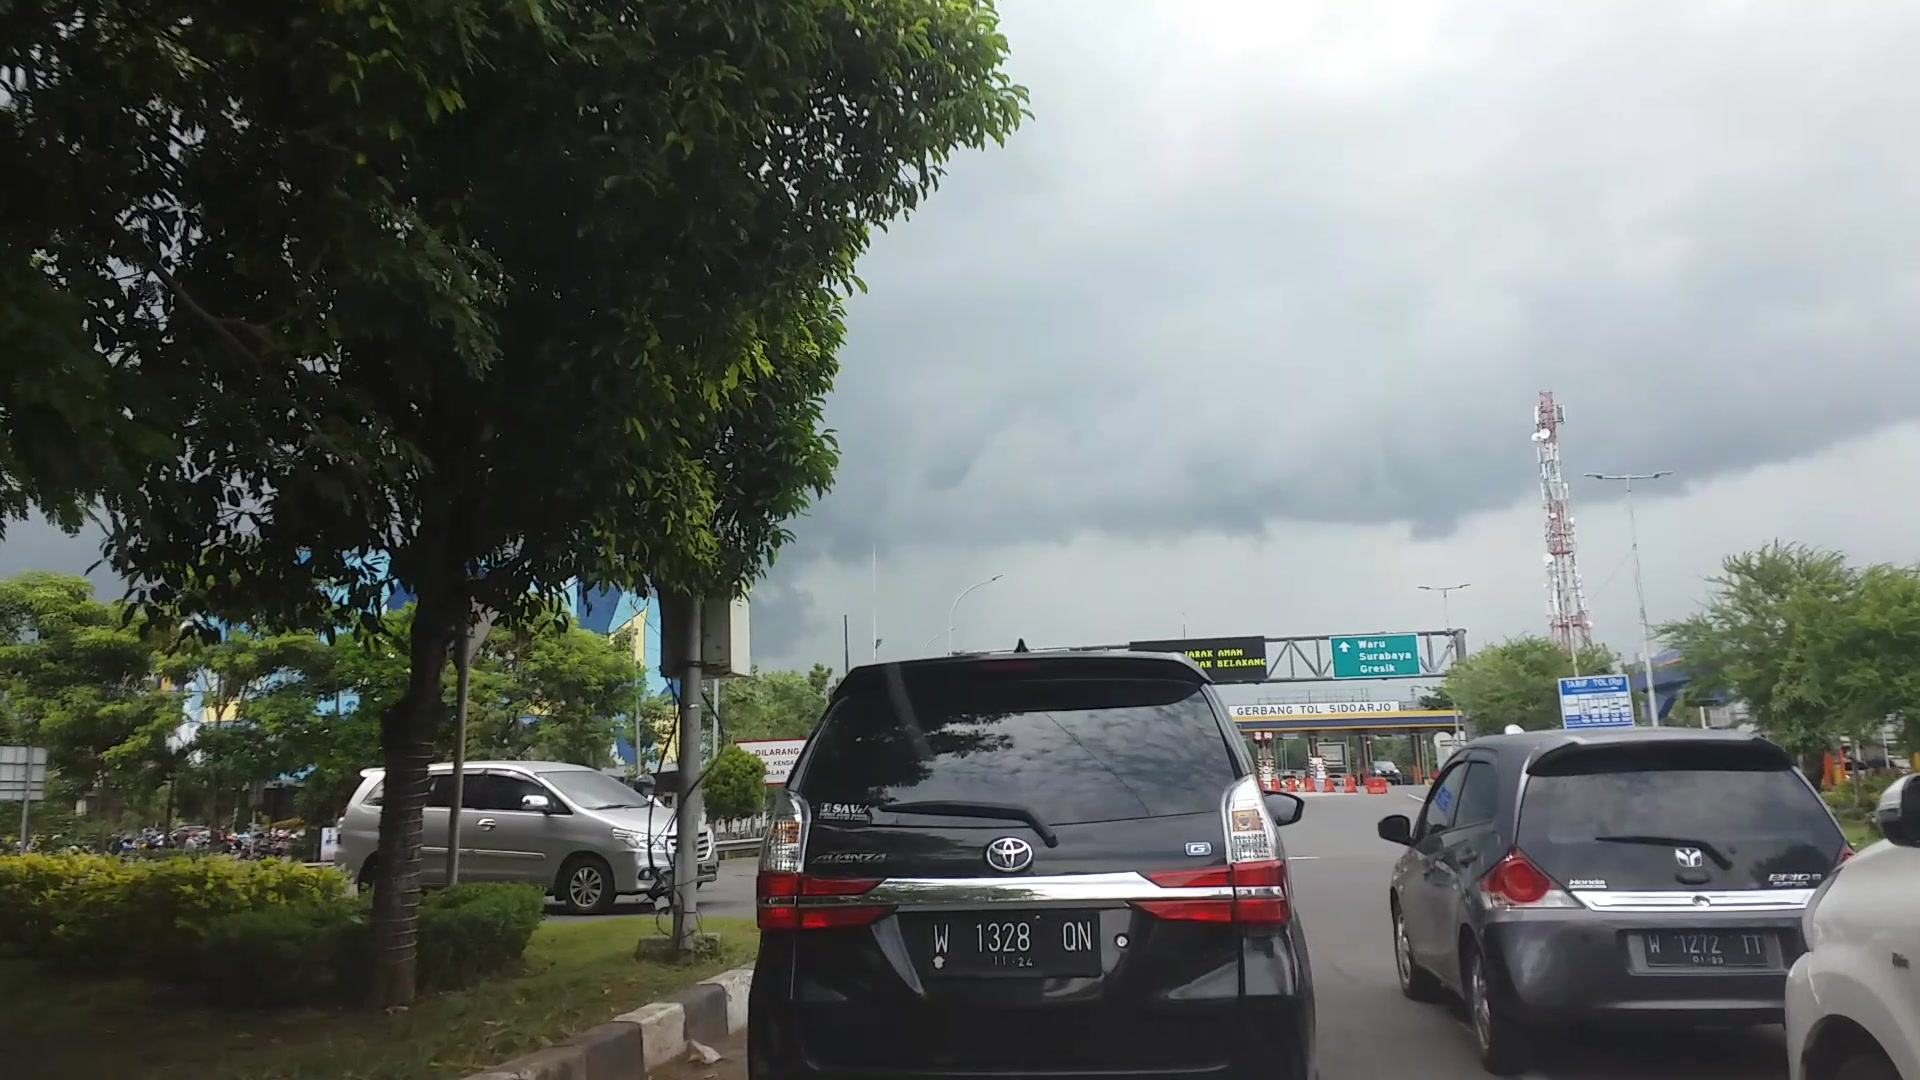plate_positive: (924, 910, 1102, 978), (1642, 930, 1768, 969)
